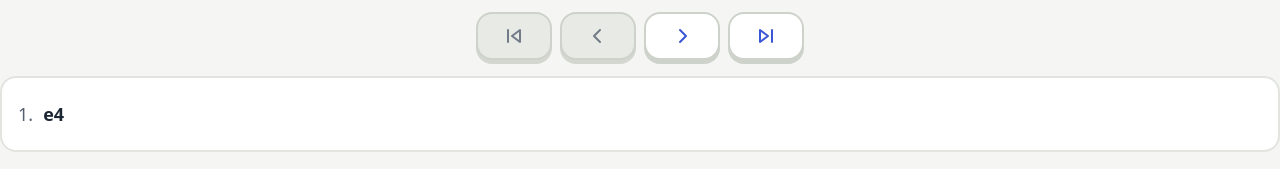
Scenario: ContinuationViewer › disables the arrows that can't be used
The image size is (1280, 169).
Click the button named "Next move" at (682, 36), box [644,12,720,60]
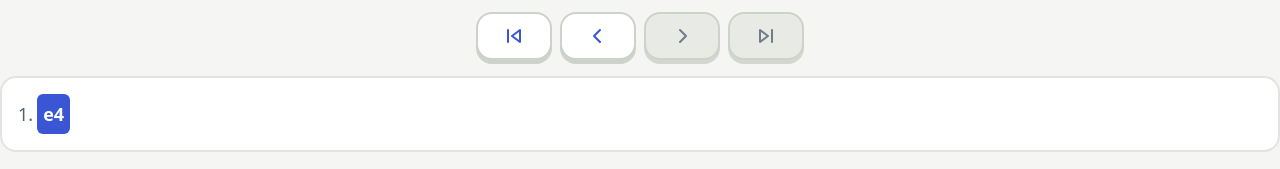
Expected: the button named "Next move" is disabled, [644,12,720,60]
